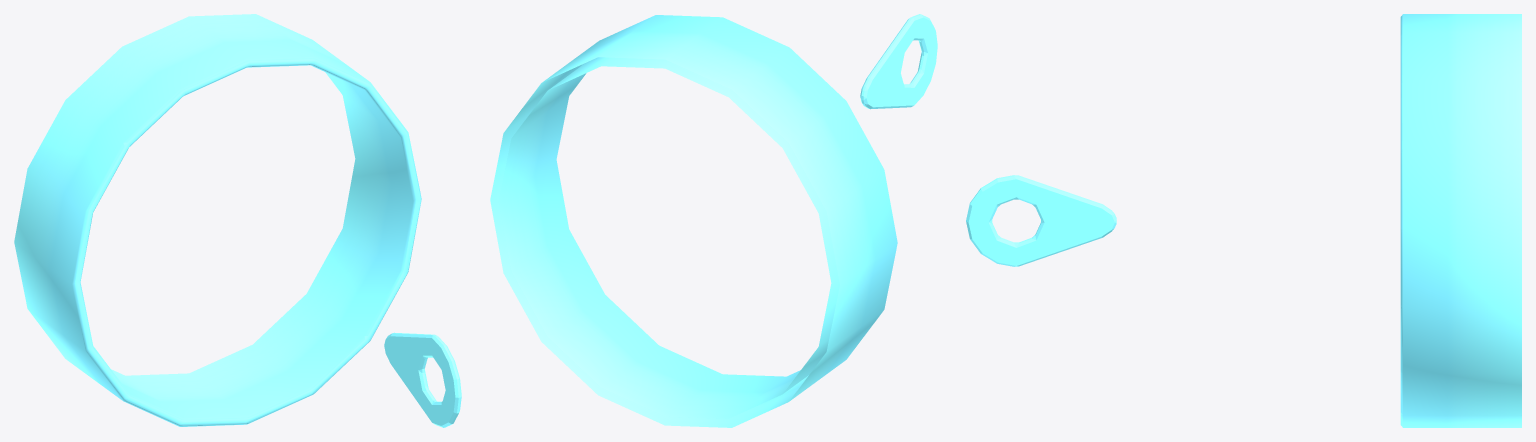
Rendered from obj_navMarker_fixed.glb.
3 renders of one model, left to right at view 1: azimuth 30°, elevation 25°; view 2: azimuth 150°, elevation 25°; view 3: azimuth 270°, elevation 25°, orthographic. The views are drawn at different scales.
Parts seen in each view (by area): view 1: Circle; view 2: Circle; view 3: Circle.
Part boxes in pixels (left/top/right/bottom): Circle: left=14, top=14, right=461, bottom=427; Circle: left=490, top=14, right=937, bottom=427; Circle: left=966, top=14, right=1521, bottom=427.
Bounding box in the file's own units: 8.2 × 8.2 × 11.
Materials: 1 (1 with a texture image).
